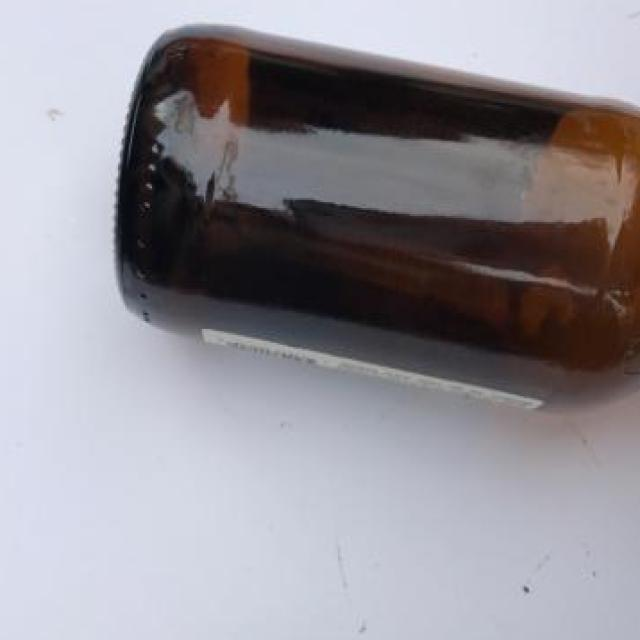organic: (121, 18, 638, 426)
